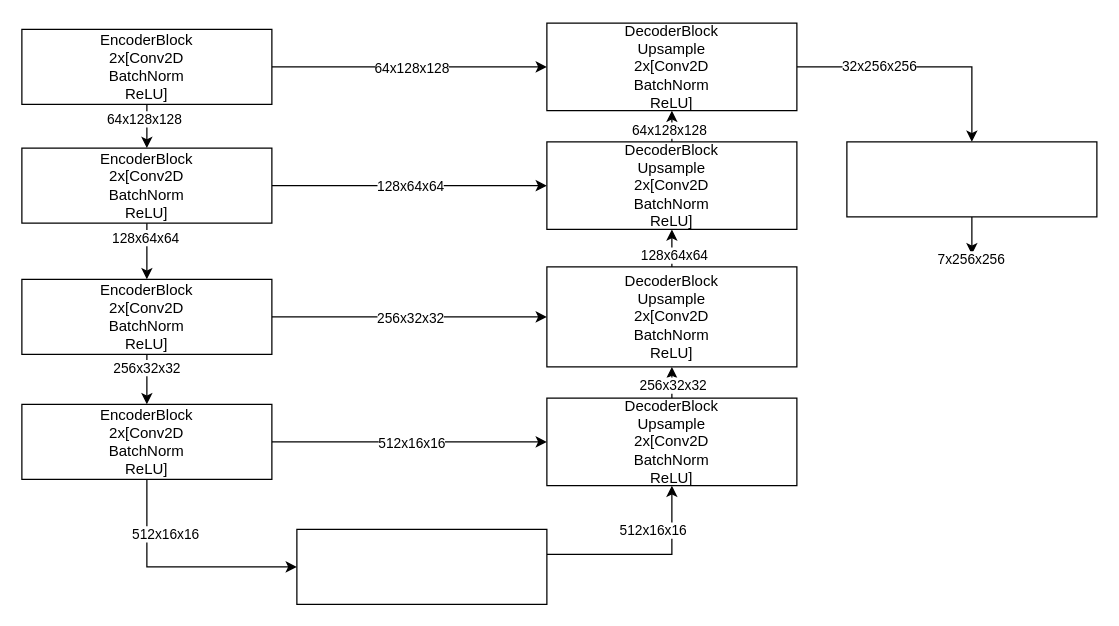
Image size: 1119x626. Some labels were removed from this diagram. Each missing label, with the box of its shape:
2x[ Conv(512, k=3,s=1,p=1) BatchNorm ReLU]: (296, 528, 547, 604)
Conv2D: (846, 141, 1097, 217)
